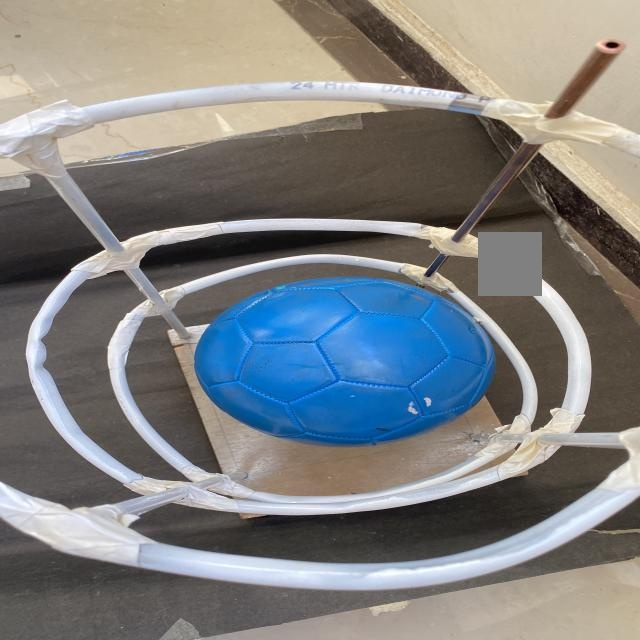blue_ball: (178, 276, 502, 444)
silo: (0, 38, 640, 591)
